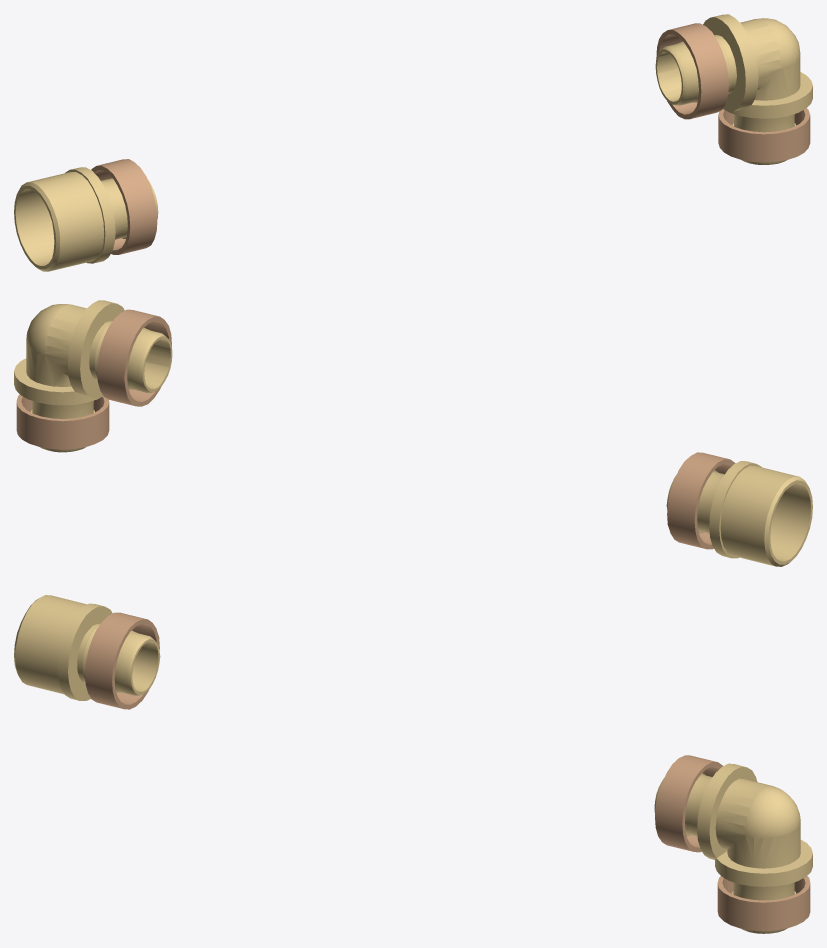
The model's file is pipes_supply__water_heater__04f5183e__r4y.glb.
The picture shows the model from 3 angles, top to bottom: view 1: azimuth 30°, elevation 25°; view 2: azimuth 150°, elevation 25°; view 3: azimuth 330°, elevation 25°; orthographic projection.
Parts seen in each view (by area): view 1: fit_pexelbow_pipe_supply_cold_riser_flo_s__pex_0, fit_adapter_pipe_supply_cold_riser_flo_s__pex.001; view 2: fit_pexelbow_pipe_supply_cold_riser_flo_s__pex_0, fit_adapter_pipe_supply_cold_riser_flo_s__pex.001; view 3: fit_pexelbow_pipe_supply_cold_riser_flo_s__pex_0, fit_adapter_pipe_supply_cold_riser_flo_s__pex.001.
Part boxes in pixels (box(x1,y1,x2,y2)): fit_pexelbow_pipe_supply_cold_riser_flo_s__pex_0: box(655, 14, 812, 164); fit_adapter_pipe_supply_cold_riser_flo_s__pex.001: box(14, 159, 158, 271); fit_pexelbow_pipe_supply_cold_riser_flo_s__pex_0: box(14, 300, 172, 452); fit_adapter_pipe_supply_cold_riser_flo_s__pex.001: box(666, 452, 812, 566); fit_pexelbow_pipe_supply_cold_riser_flo_s__pex_0: box(654, 755, 812, 933); fit_adapter_pipe_supply_cold_riser_flo_s__pex.001: box(14, 595, 160, 709).
Size of the model in its own units: 0.2323 by 0.0413 by 0.0278.
